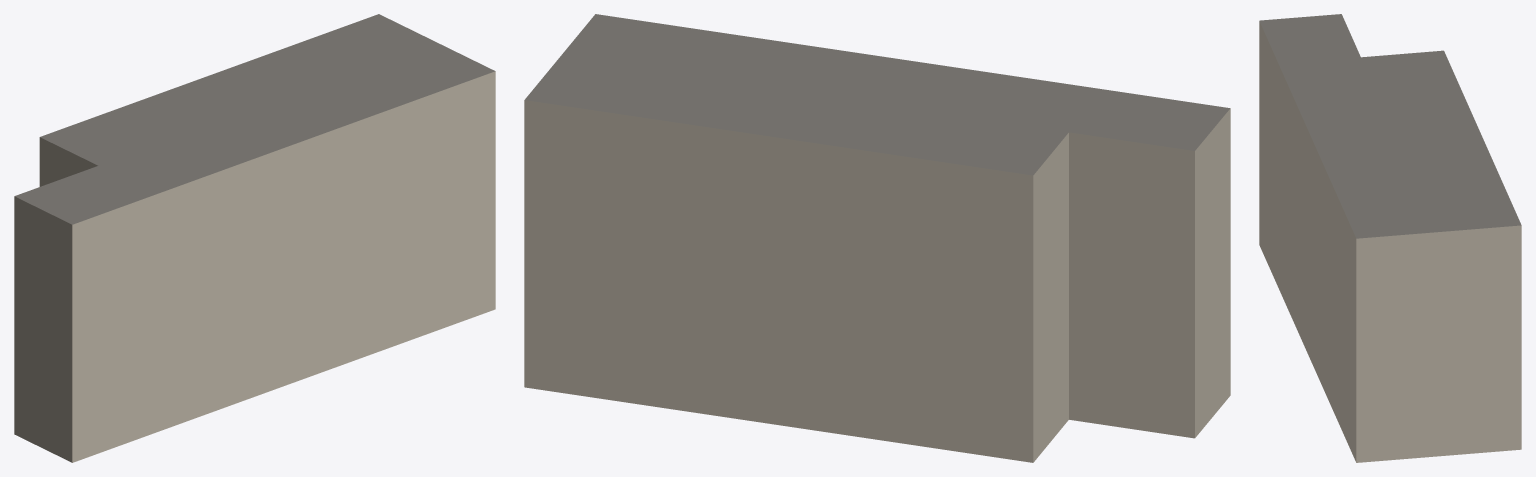
The picture shows the model from 3 angles, left to right: view 1: azimuth 30°, elevation 25°; view 2: azimuth 150°, elevation 25°; view 3: azimuth 270°, elevation 25°; orthographic projection. The views are drawn at different scales.
Visible parts, largest first — view 1: HP-w1199462111; view 2: HP-w1199462111; view 3: HP-w1199462111.
Part boxes in pixels (box(x1,y1,x2,y2)): HP-w1199462111: box(14, 14, 495, 462); HP-w1199462111: box(524, 14, 1230, 462); HP-w1199462111: box(1259, 14, 1521, 462).
Bounding box in the file's own units: 32.23 × 15 × 15.91.
